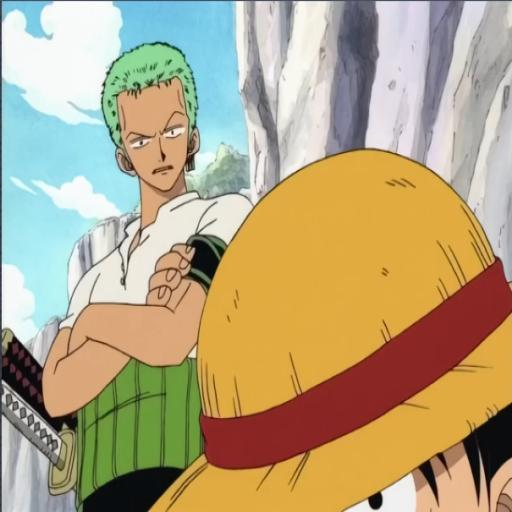Luffy: (159, 149, 512, 512)
Zoro: (51, 38, 244, 512)
